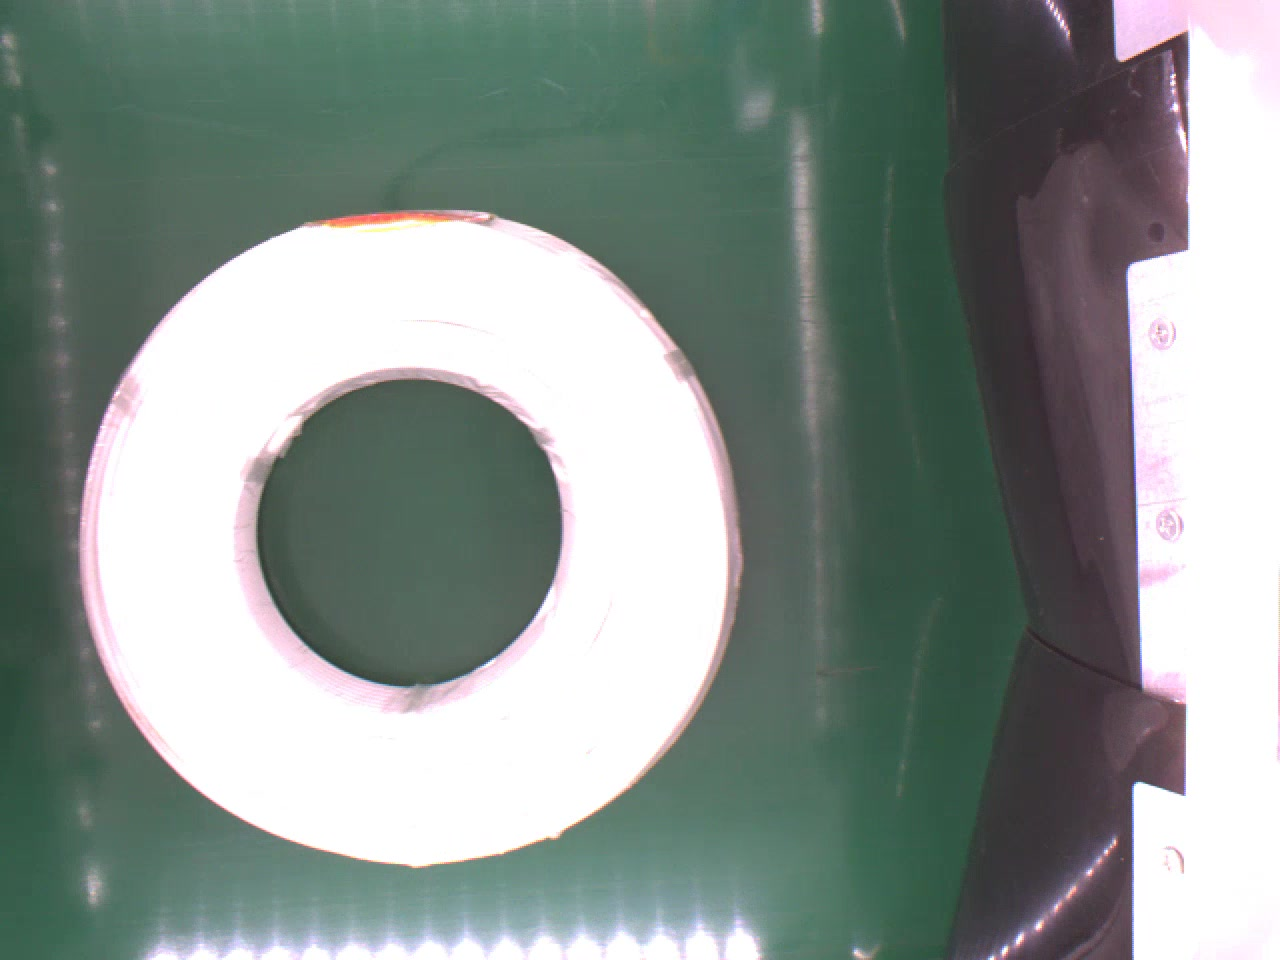white: (75, 199, 758, 870)
